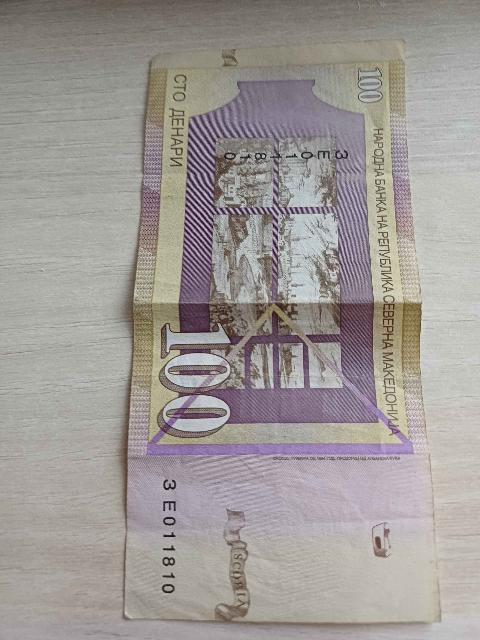100_note: (126, 41, 439, 622)
